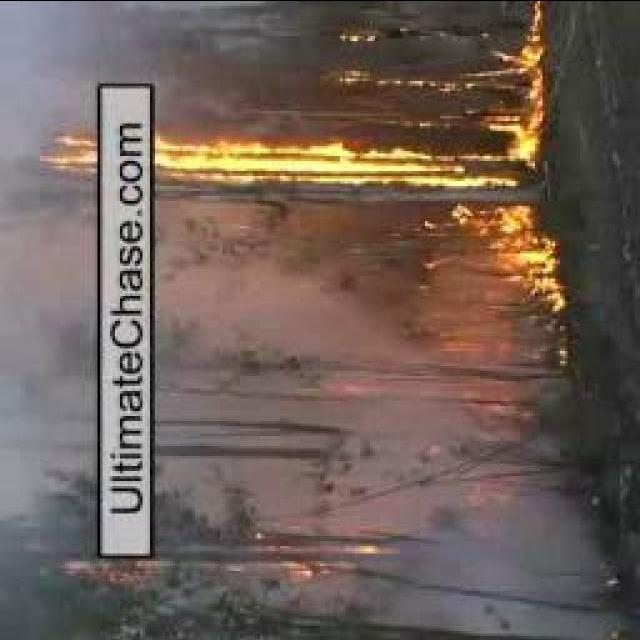Fire: (44, 118, 552, 176), (429, 198, 566, 322), (482, 4, 544, 102)
